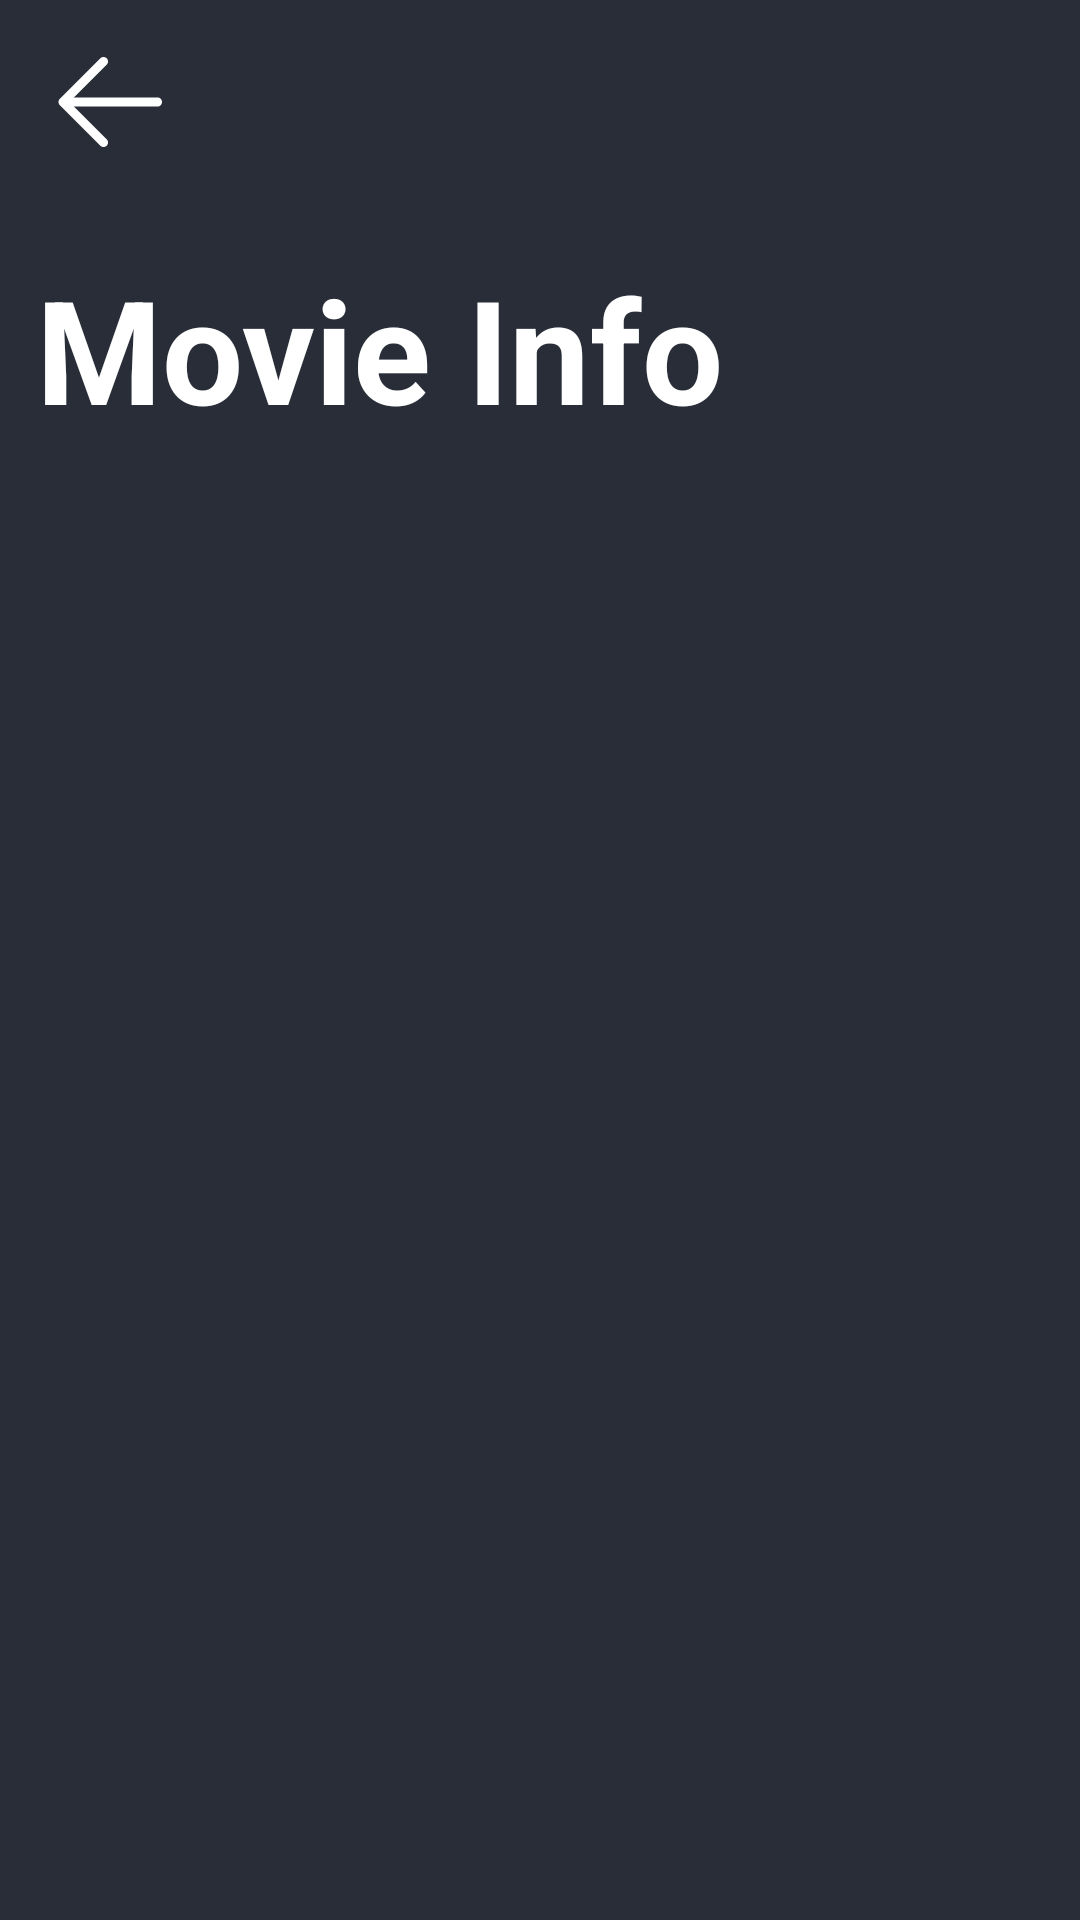

Where icons sit on this 1080×1920 app screen, as [x1, y1, x2, y2]:
ep back: [58, 57, 162, 147]
